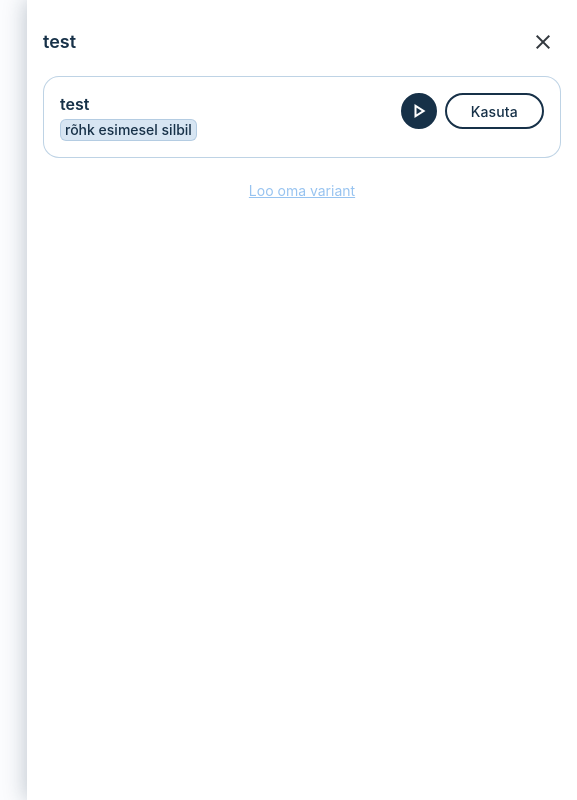
PronunciationVariants › markers guide box › shows markers guide box in custom variant form
What coordinates should you click on to do the following:
click the button "Loo oma variant"
I would click on:
 (302, 191)
Its box is [249,174,355,207].
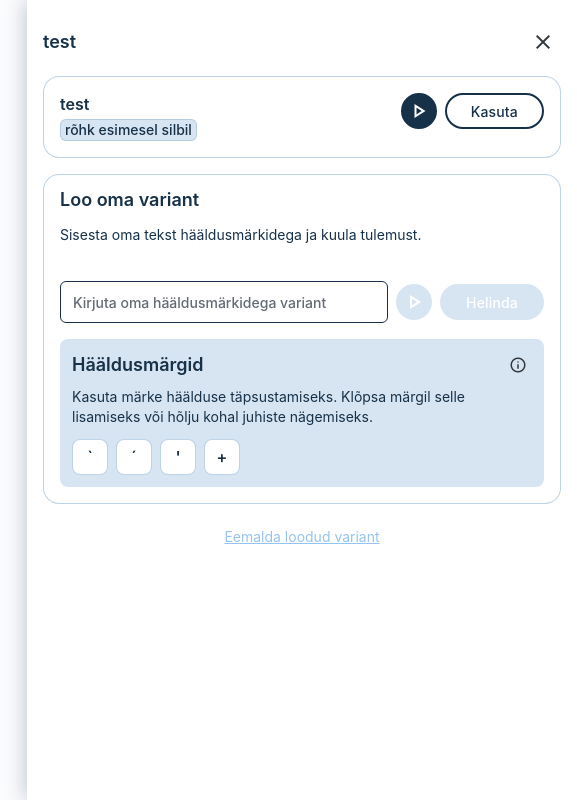
Expected: the heading "Hääldusmärgid" is shown, [72,356,204,374]
Expected: the text "Kasuta märke häälduse täpsustamiseks. Klõpsa märgil selle lisamiseks või hõlju kohal juhiste nägemiseks." is shown, [72,388,465,425]
